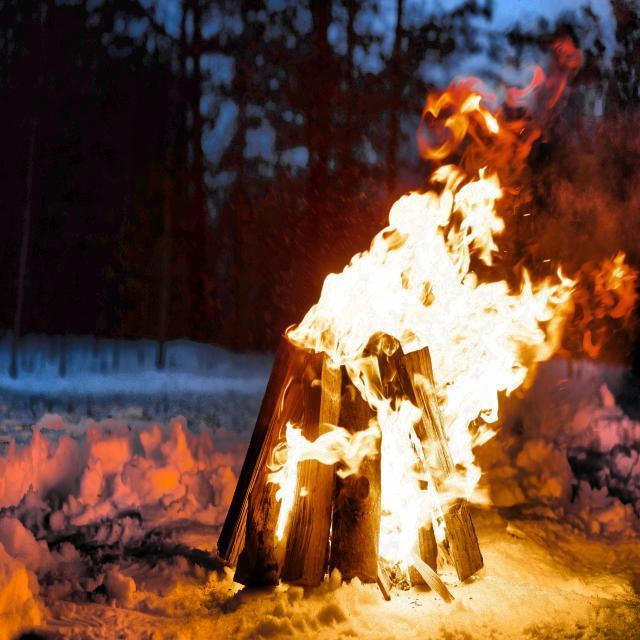Fire: (272, 172, 578, 569)
